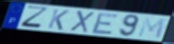9: (118, 14, 141, 38)
E: (90, 12, 121, 36)
K: (47, 8, 71, 31)
M: (137, 16, 167, 40)
X: (69, 9, 96, 34)
Z: (19, 5, 51, 30)
